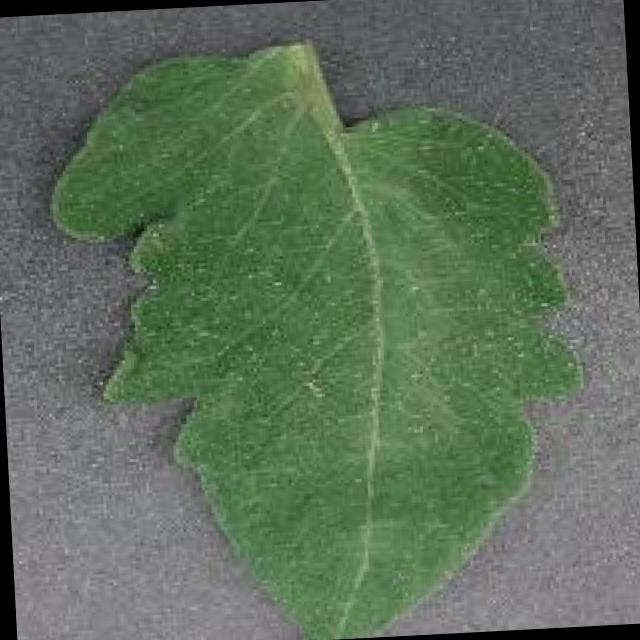healthy: (49, 47, 585, 640)
